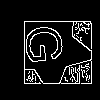G: (23, 21, 73, 65)
